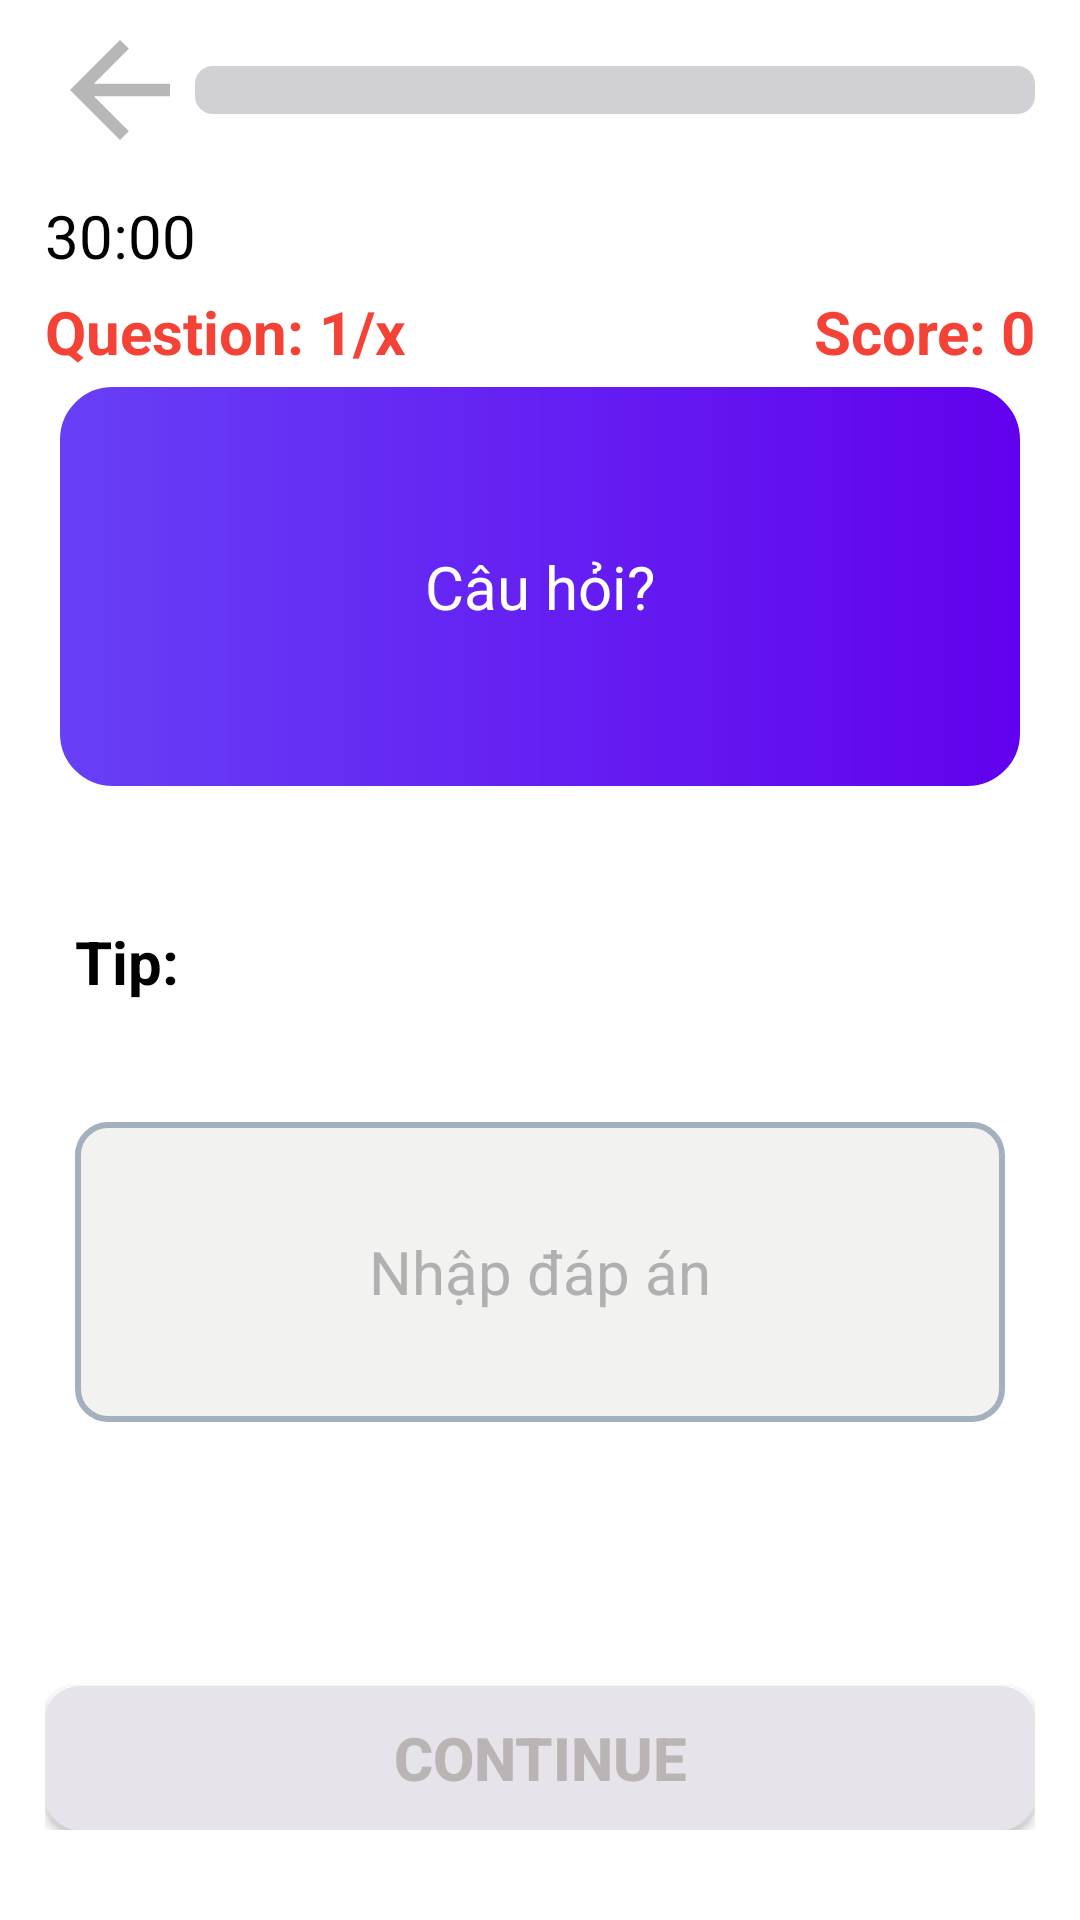

Locate icon controls on the screen. Image size 1080×1920, boxes as detection(x1, y1, x2, y2).
arrow back: detection(70, 40, 170, 140)
